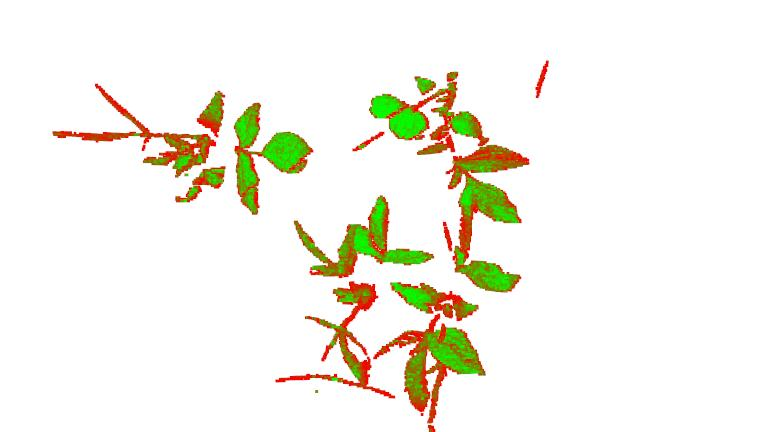mungbean: (50, 83, 313, 216), (349, 72, 532, 225), (387, 224, 519, 431), (293, 193, 432, 380)
